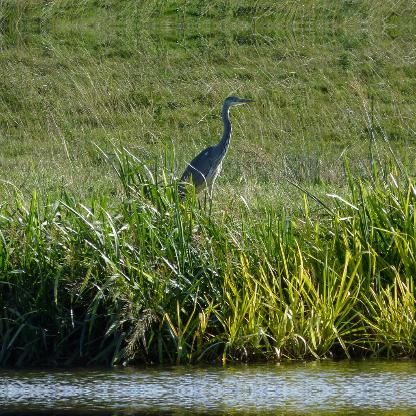Bird: (172, 94, 260, 216)
